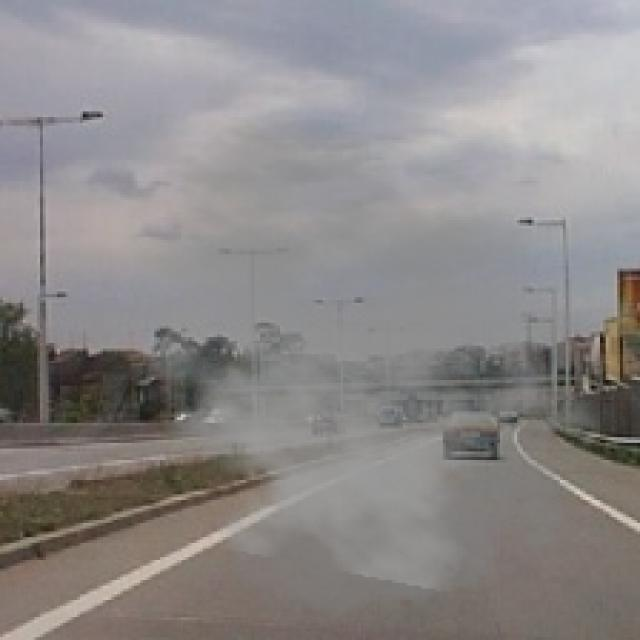smoke: (88, 114, 623, 629)
